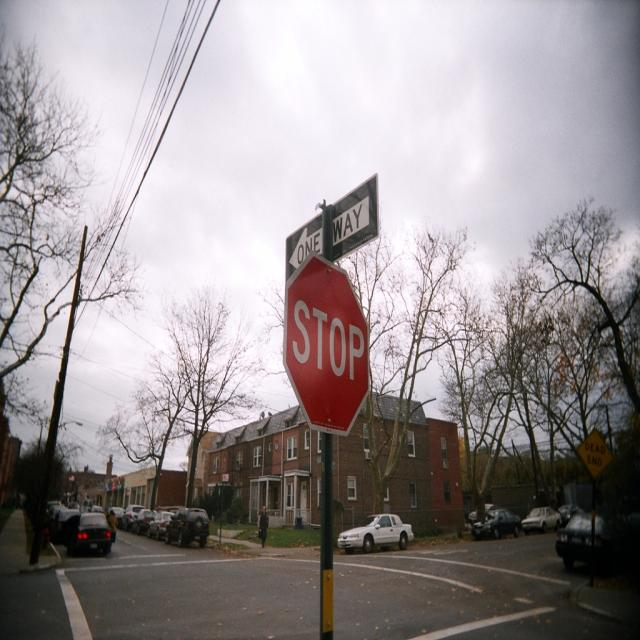Stop-sign: (280, 248, 372, 438)
